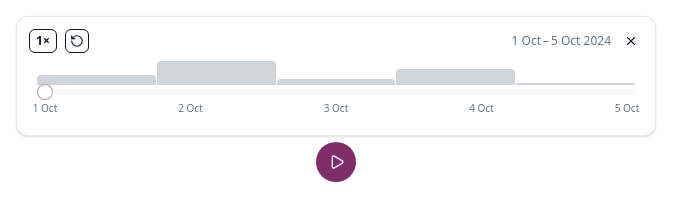
it: TimelineScrubber › speed button cycles through 1x → 2x → 4x → 1x
Click the button named "Speed 1x" at (43, 41), box [29,29,57,53]
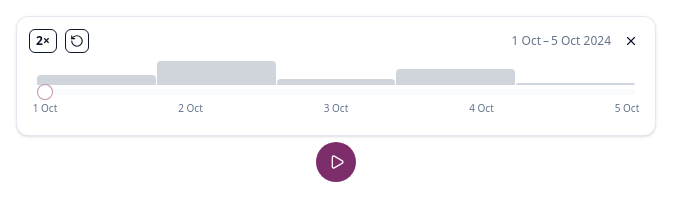
Check: the button named "Speed 2x" reads "2×"
Click the button named "Speed 2x" at (43, 41), box [29,29,57,53]
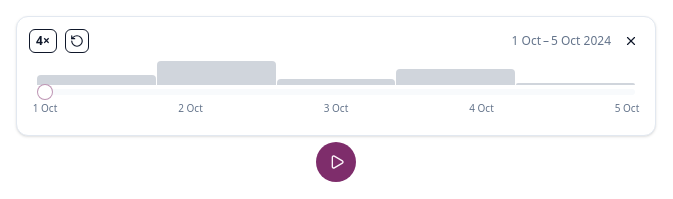
Check: the button named "Speed 4x" reads "4×"
Click the button named "Speed 4x" at (43, 41), box [29,29,57,53]
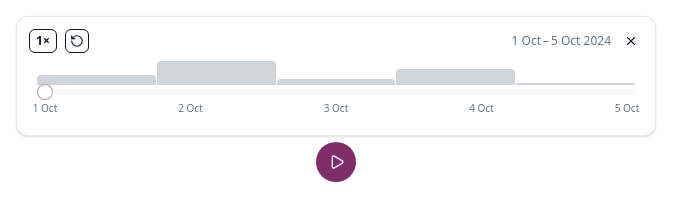
Check: the button named "Speed 1x" reads "1×", box [29,29,57,53]
